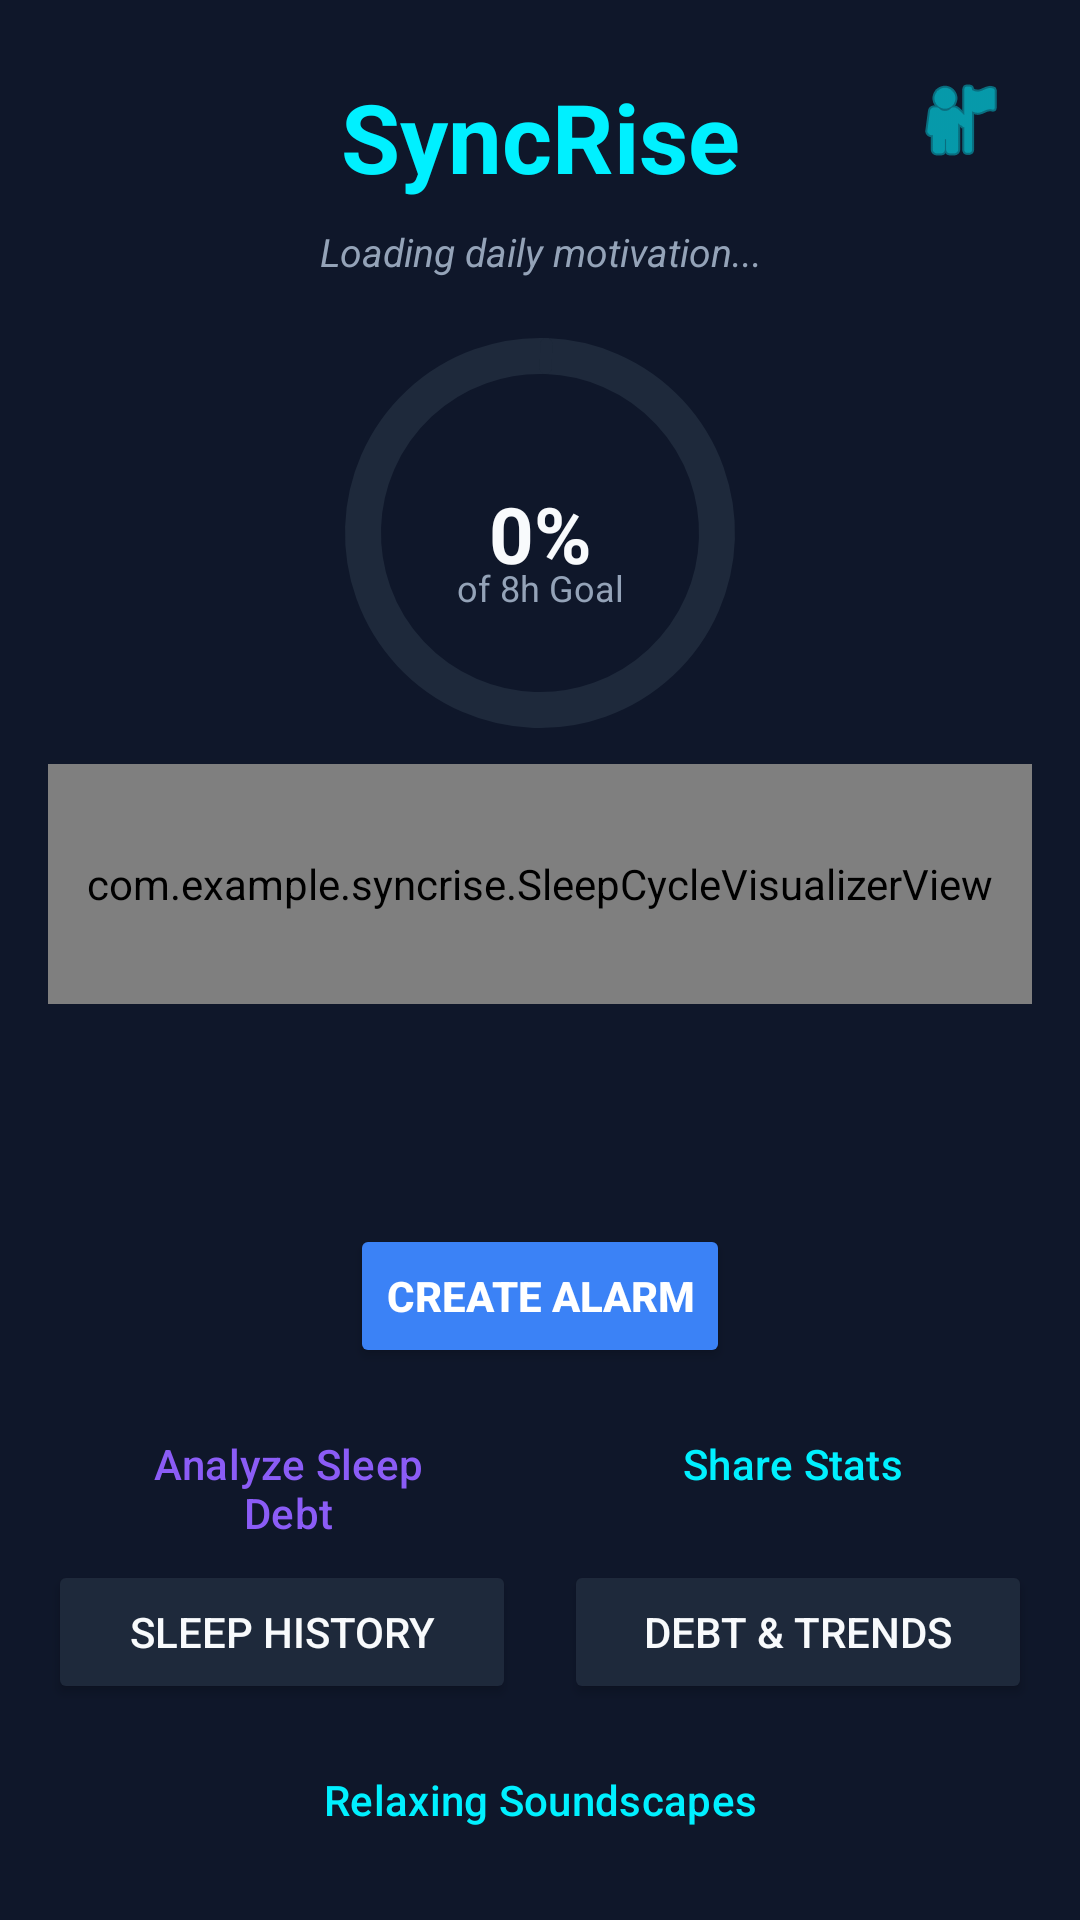

Icon bounding boxes for this 1080px x 1920px phone screenshot, format rect(x1, y1, x2, y2):
Profile: rect(925, 84, 997, 156)
